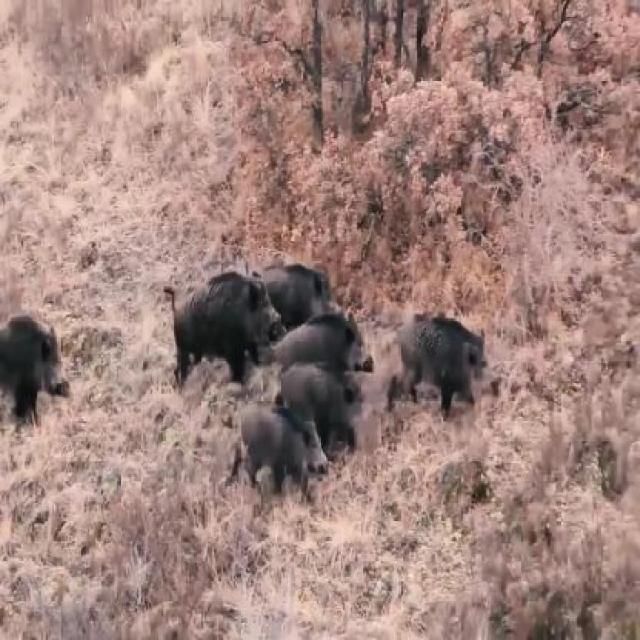pig: (157, 238, 280, 382), (231, 389, 327, 521), (388, 286, 483, 418), (0, 284, 83, 422), (263, 242, 344, 318), (264, 354, 346, 424), (282, 305, 372, 367)
